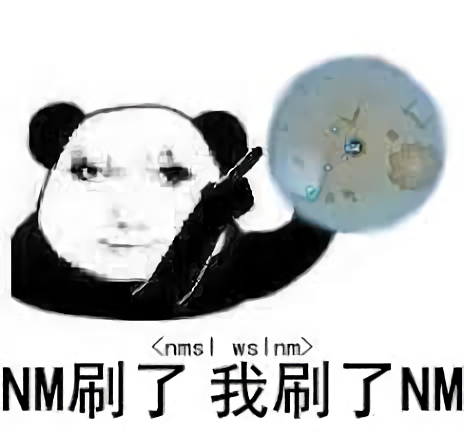dragon: (71, 150, 195, 255)
